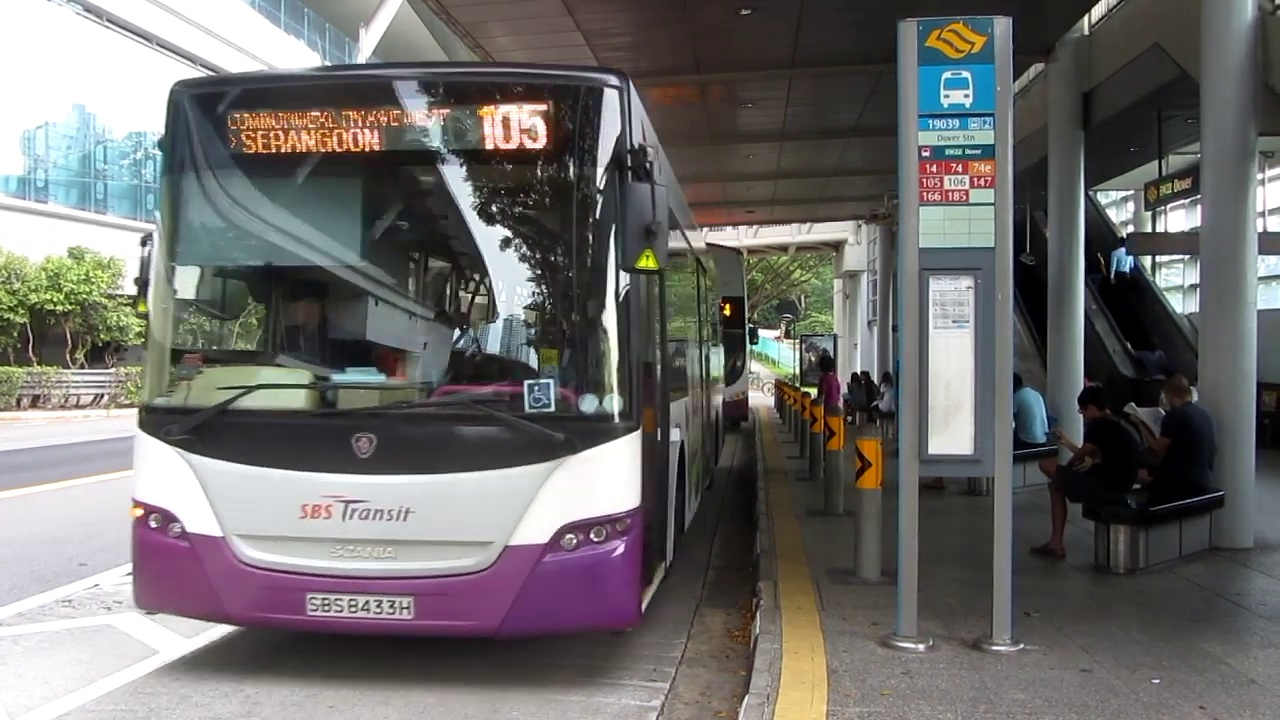bus panel: (224, 97, 556, 157)
